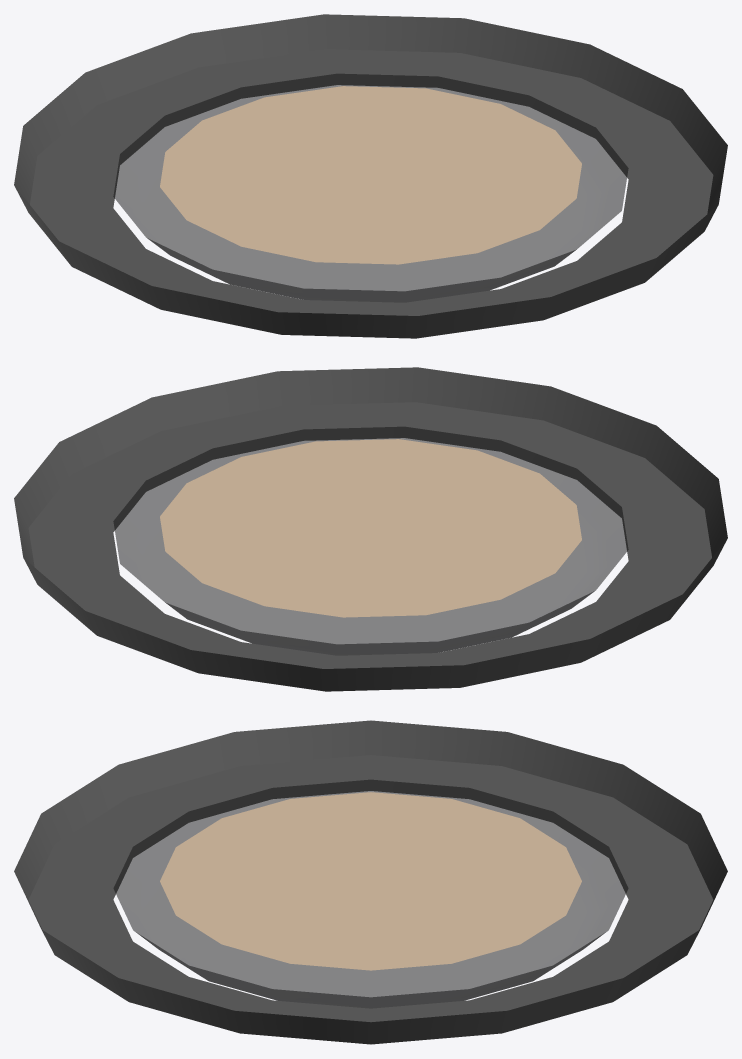
File: Spot.fbx
The picture shows the model from 3 angles, top to bottom: view 1: azimuth 30°, elevation 25°; view 2: azimuth 150°, elevation 25°; view 3: azimuth 270°, elevation 25°; orthographic projection.
Parts seen in each view (by area): view 1: Spot; view 2: Spot; view 3: Spot.
Boxes of the visible parts, x1,y1,x2,y2 form: Spot: (14, 14, 727, 338); Spot: (14, 367, 727, 691); Spot: (14, 720, 727, 1044).
Size of the model in its own units: 8 by 8 by 0.5116.
